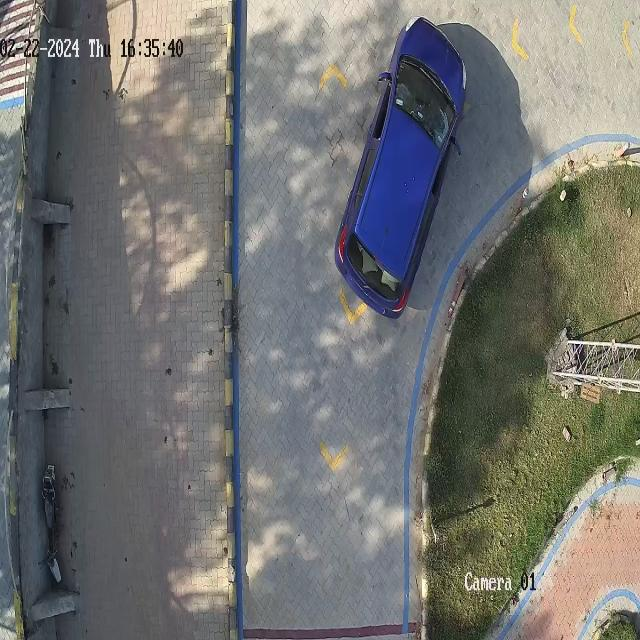car: (334, 15, 468, 321)
